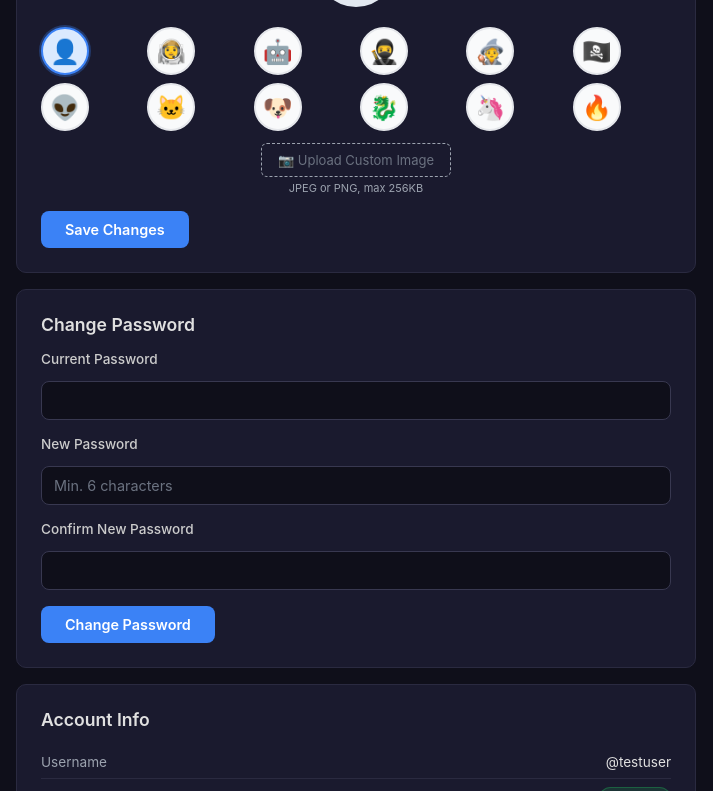
Test: ProfileView › shows error for short new password
The image size is (713, 791).
(page scrolled)
Type "oldpass" into the password field with test id "current-password" at (356, 400), box [41,381,671,420]
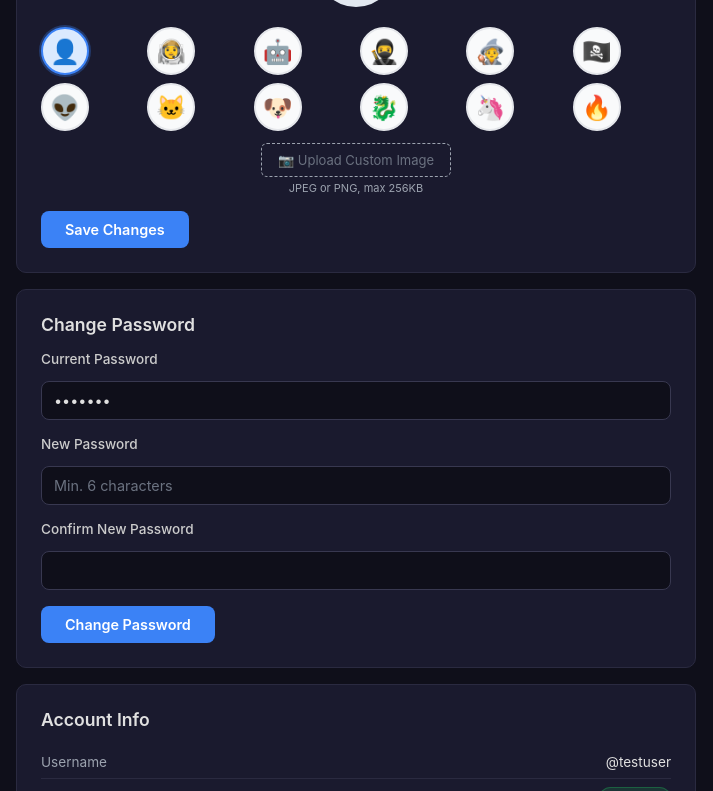
Type "12345" into the password field with test id "new-password" at (356, 486), box [41,466,671,505]
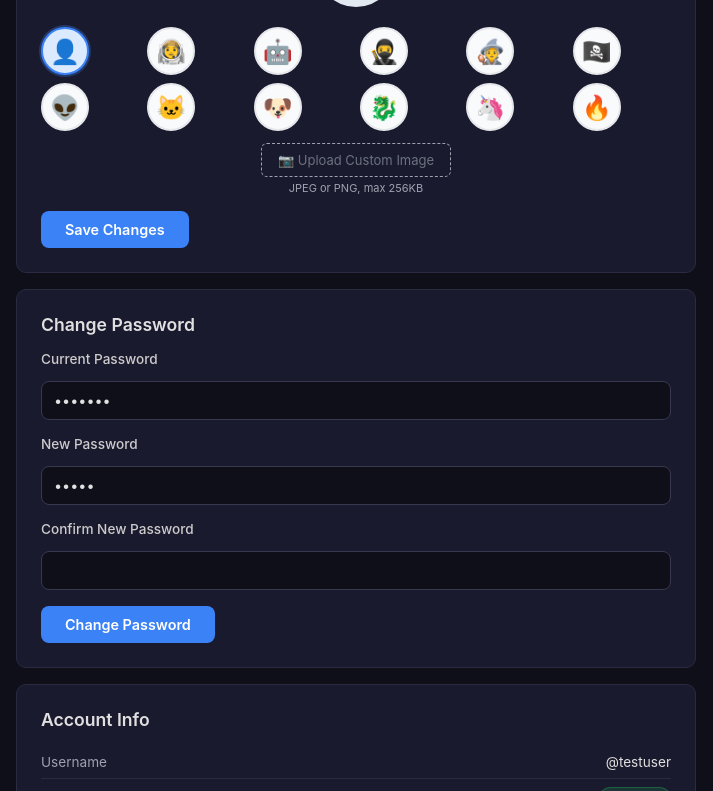
Type "12345" into the password field with test id "confirm-new-password" at (356, 570), box [41,551,671,590]
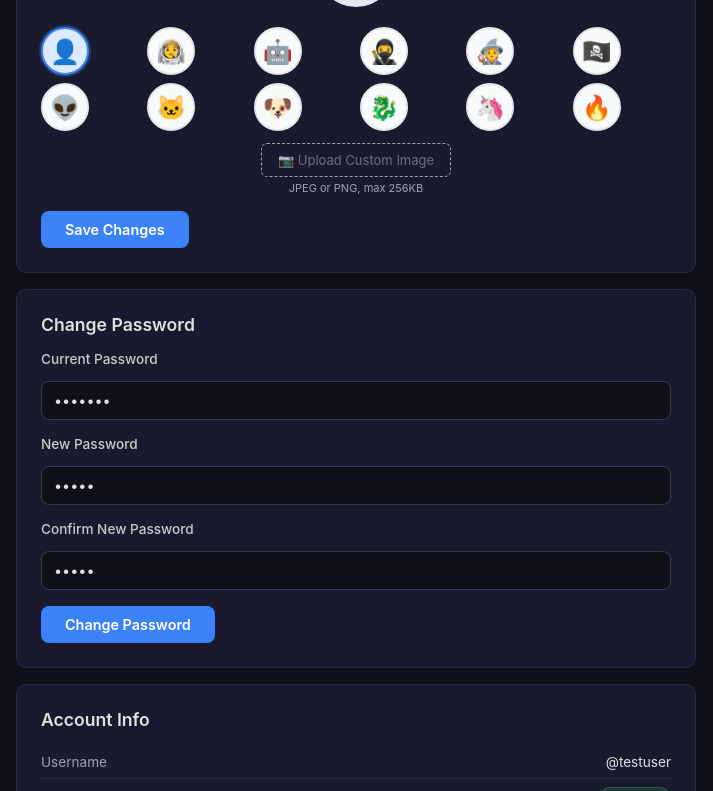
Click the button with test id "password-save" at (128, 624), box [41,606,215,643]
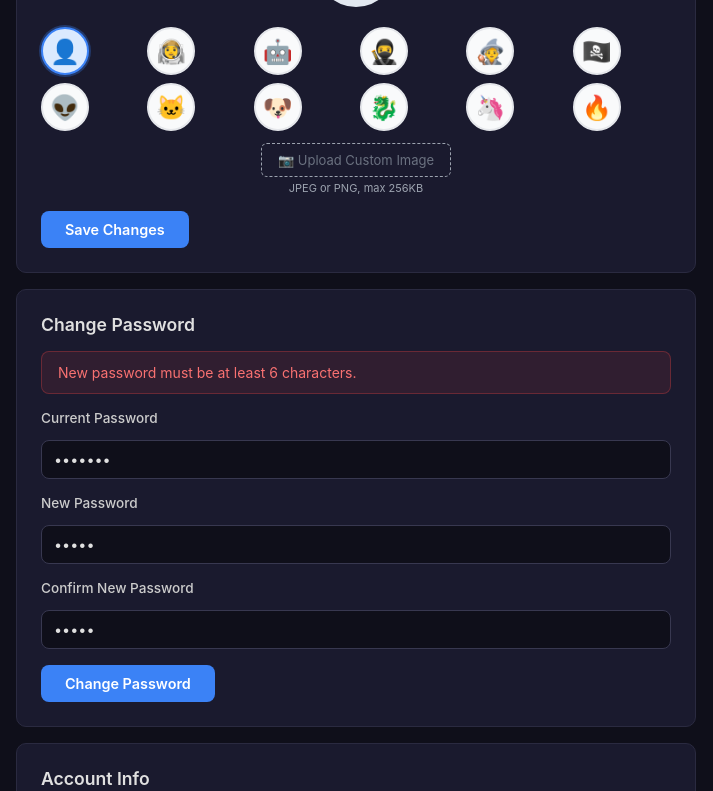
Expected: the message with test id "password-error" shows "at least 6 characters", [58,364,356,381]
